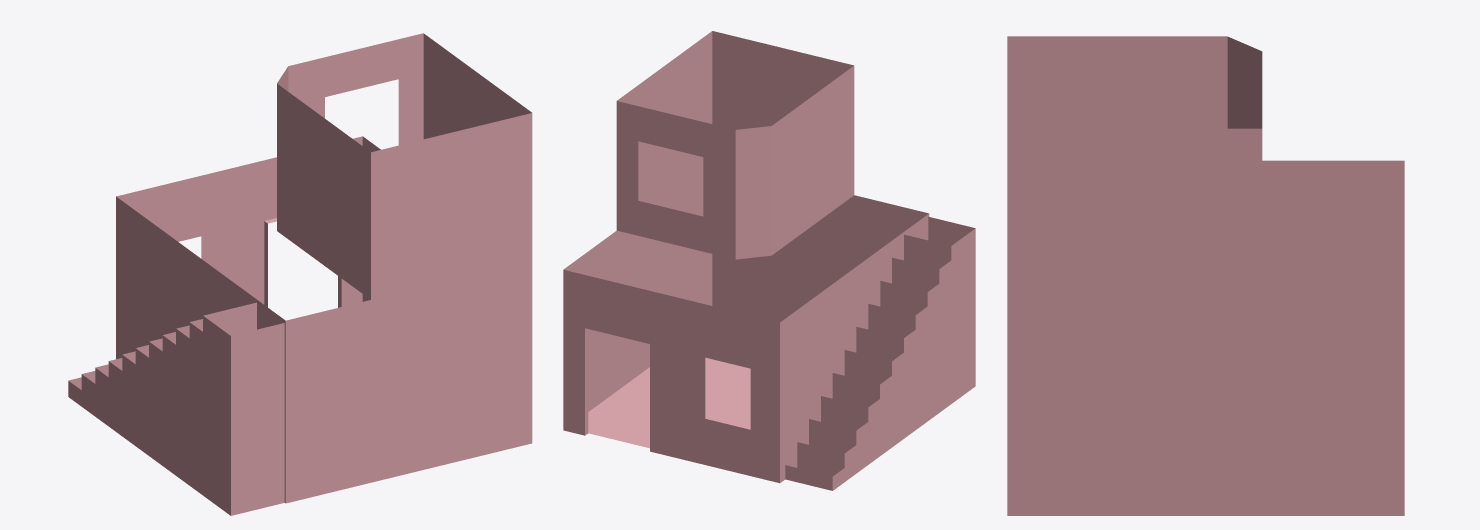
File: Bld_R_low_L2_B.fbx
3 renders of one model, left to right at view 1: azimuth 30°, elevation 25°; view 2: azimuth 150°, elevation 25°; view 3: azimuth 270°, elevation 25°, orthographic. The views are drawn at different scales.
Parts seen in each view (by area): view 1: Bld_R_low_L2_B_LOD0; view 2: Bld_R_low_L2_B_LOD0; view 3: Bld_R_low_L2_B_LOD0.
Part boxes in pixels (x1,y1,x2,y2): Bld_R_low_L2_B_LOD0: (68,33,532,515); Bld_R_low_L2_B_LOD0: (563,31,975,490); Bld_R_low_L2_B_LOD0: (1007,36,1404,515).
Size of what is drawn, in the model's own units: 644 by 672 by 677.
Materials: 1 (1 with a texture image).
